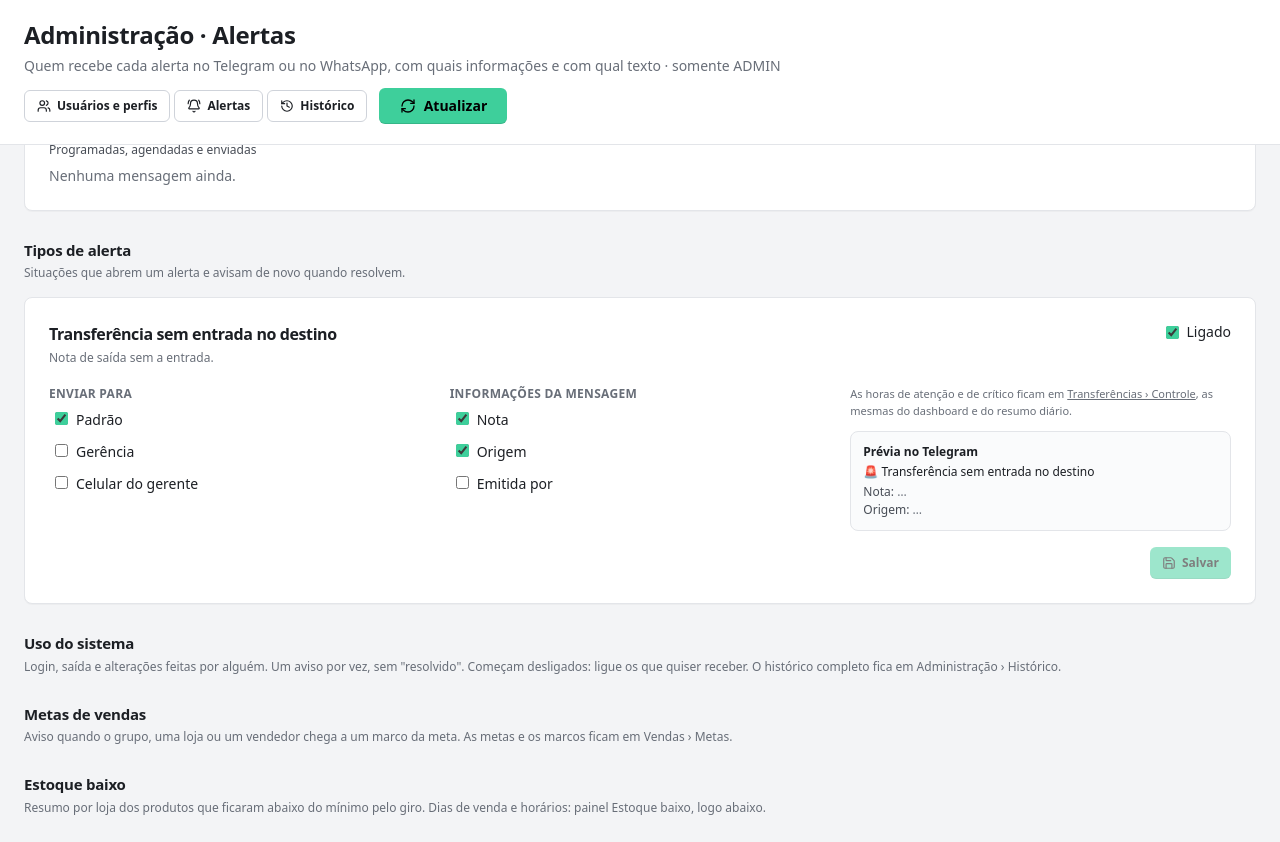
AdminAlertasPage › salva destinos e campos de uma regra
(page scrolled)
Expected: the button "Salvar" is disabled, [1150,547,1231,579]
Step 1. Click the checkbox labelled "Gerência" → (62, 450), box [55,444,68,457]
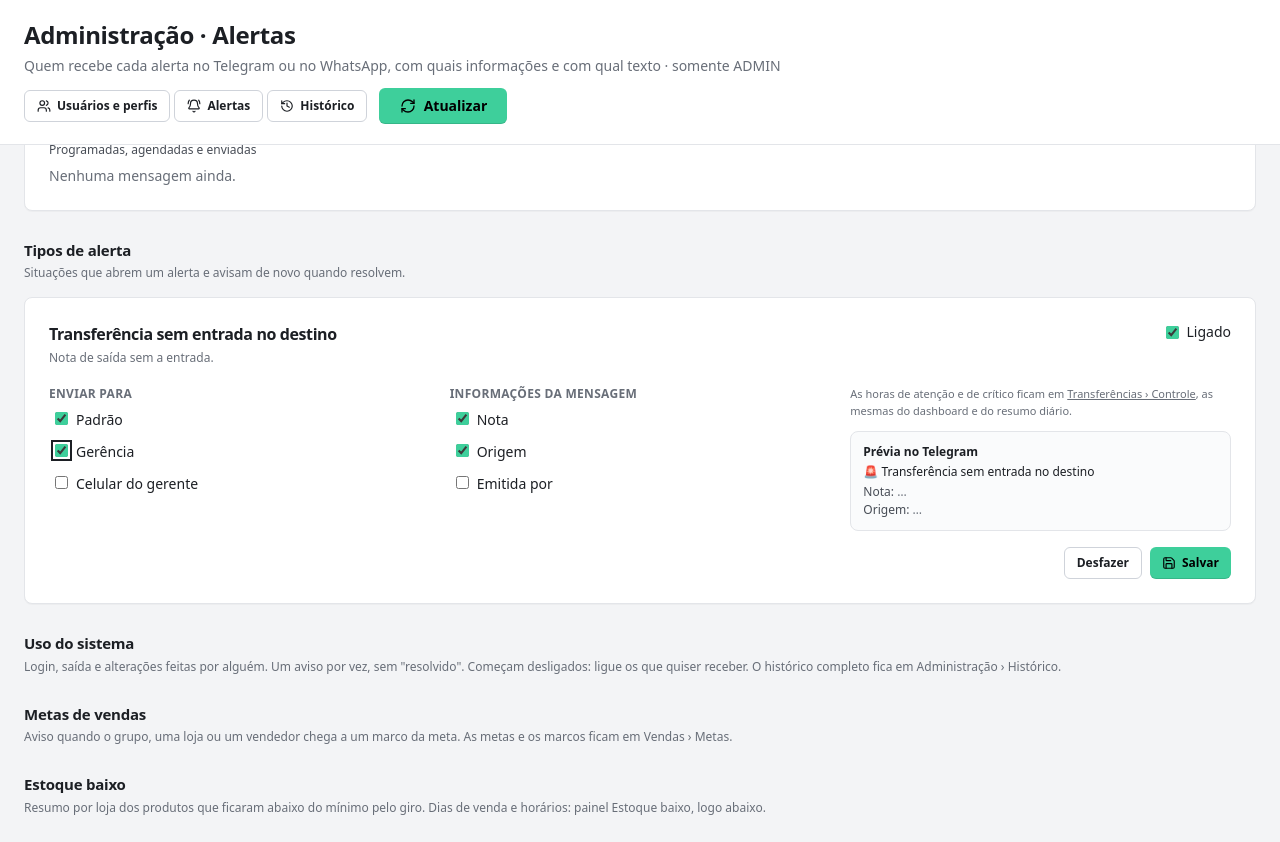
Step 2. Click the checkbox labelled "Emitida por" → (462, 482), box [456,476,469,489]
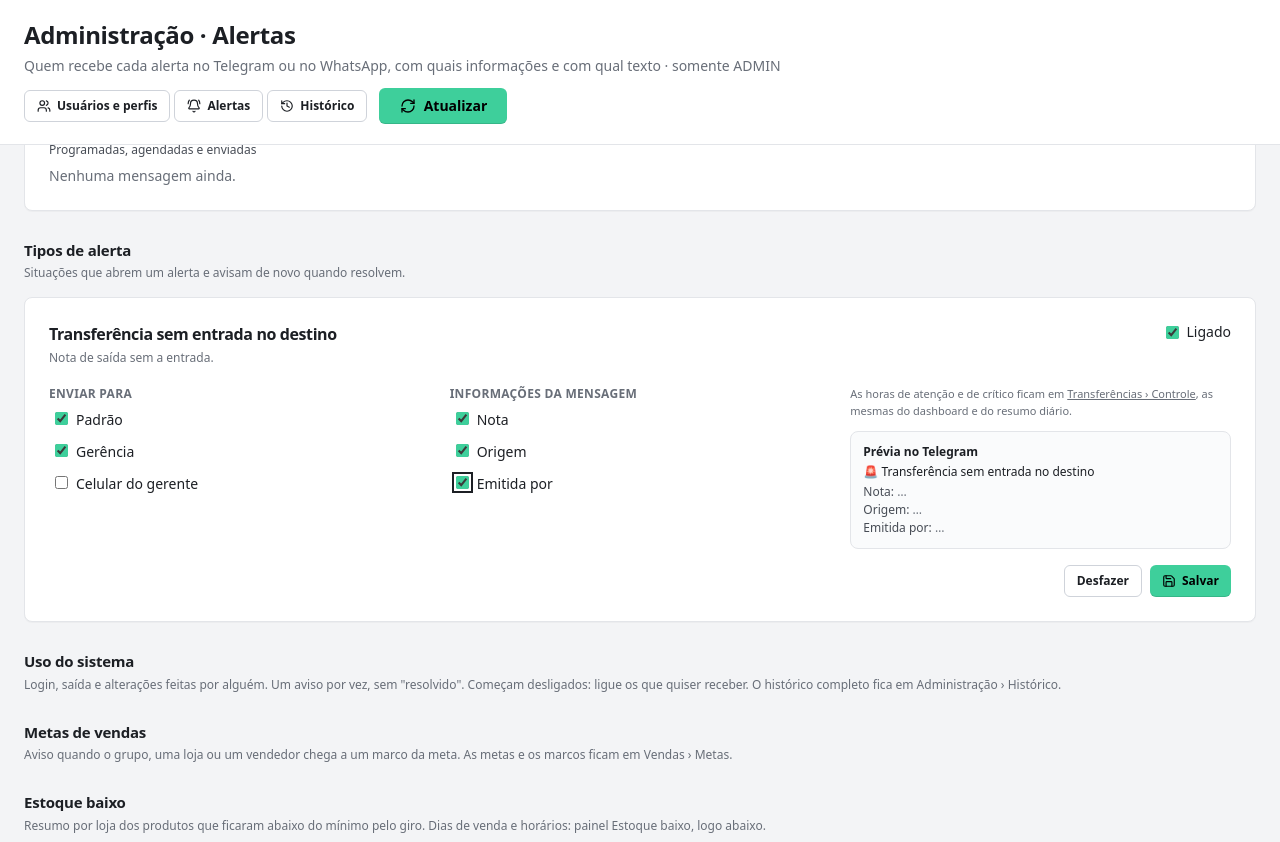
Step 3. Click the checkbox labelled "Origem" → (462, 450), box [456,444,469,457]
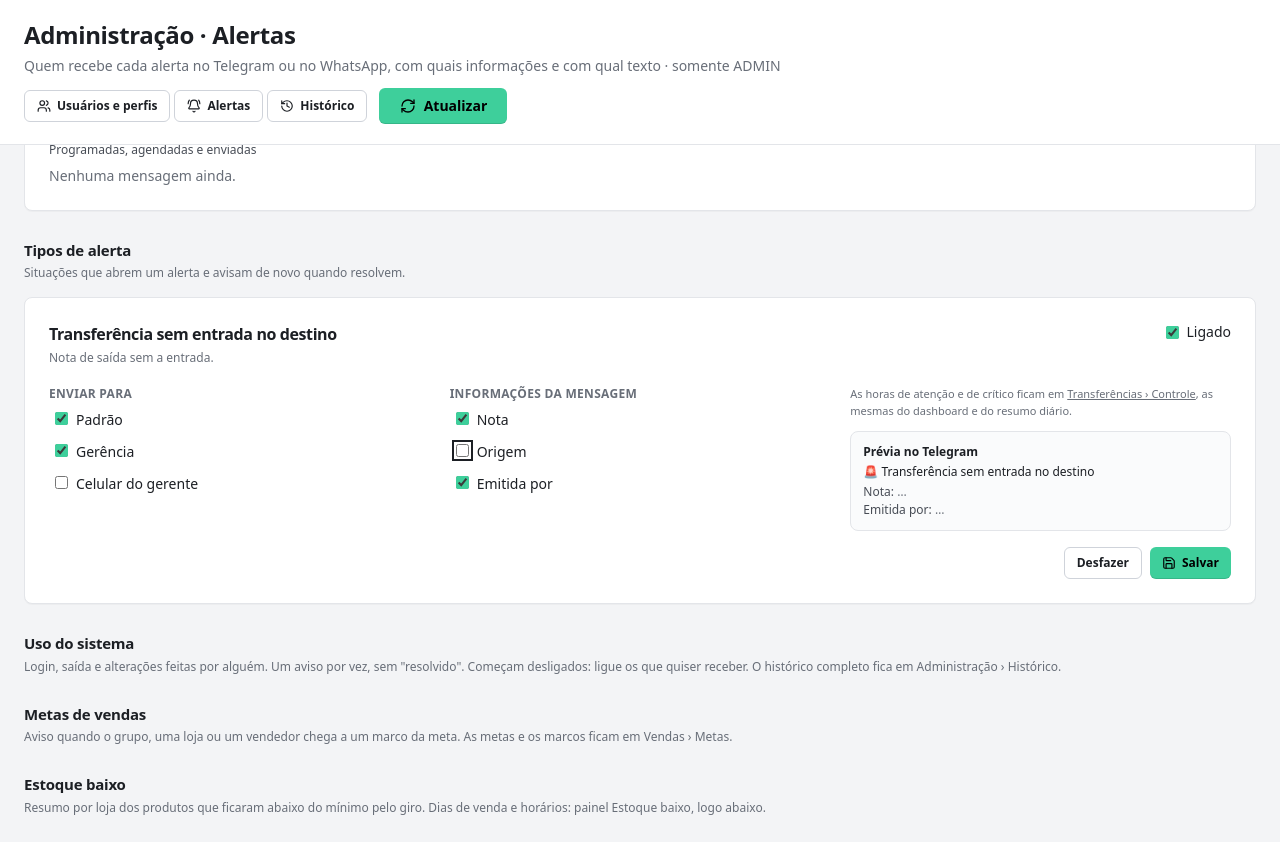
Expected: the list item "Emitida por: …" is shown, [863,501,944,518]
Expected: the list item "Origem:" is gone
Step 4. Click the button "Salvar" → (1190, 563), box [1150,547,1231,579]
(page scrolled)
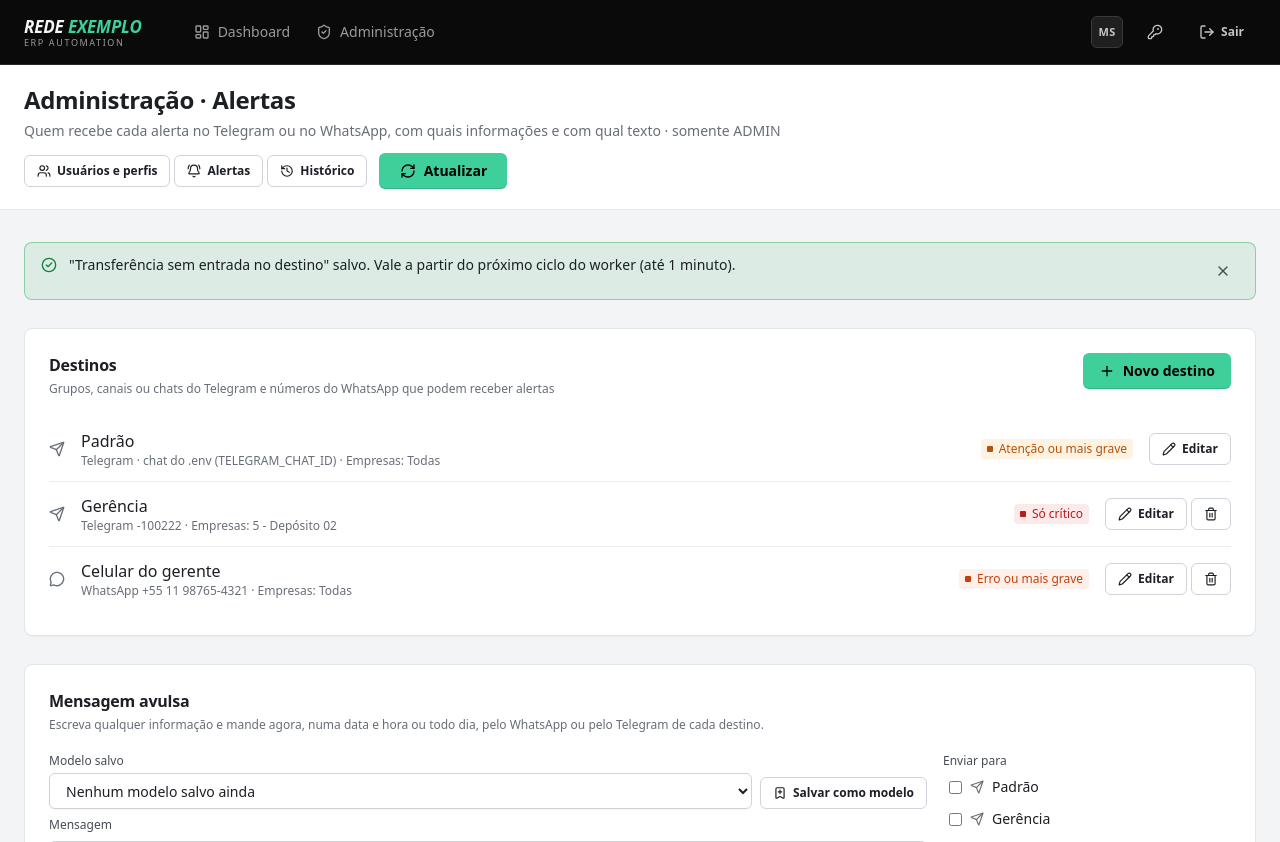
Expected: the text "salvo. Vale a partir do próximo ciclo" is shown, [69,255,735,274]
